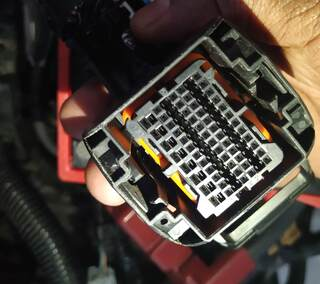connector: (81, 16, 315, 247)
